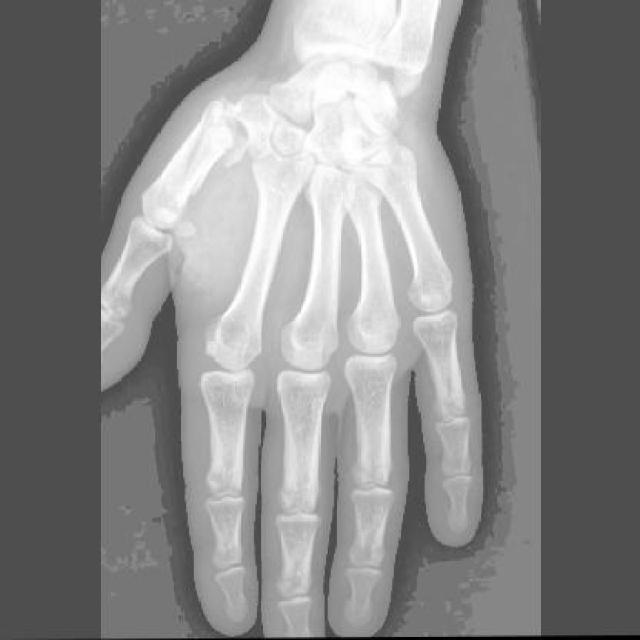Fracture: (175, 98, 257, 212)
